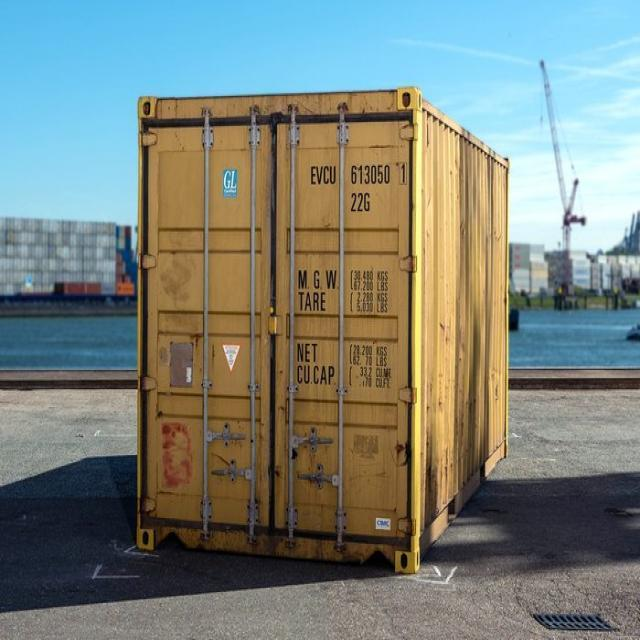container_number_h: (296, 151, 417, 231)
